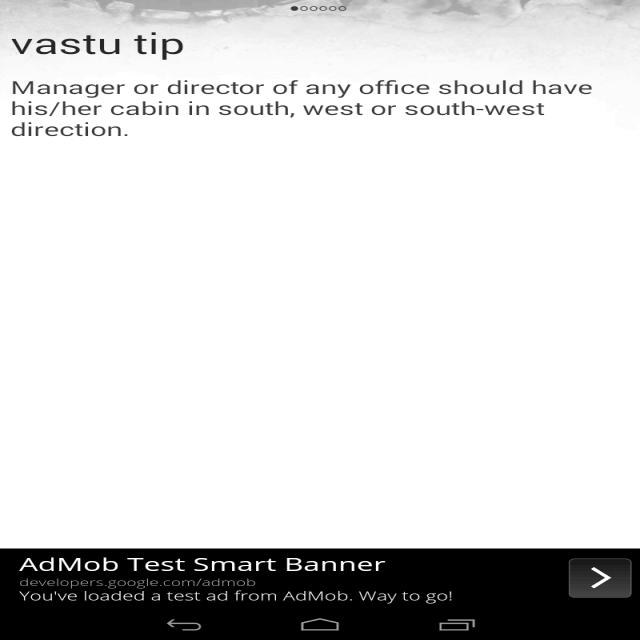Button: (562, 555, 638, 601)
TextView: (8, 75, 602, 119), (16, 551, 458, 605), (6, 27, 192, 61), (5, 125, 140, 142)
